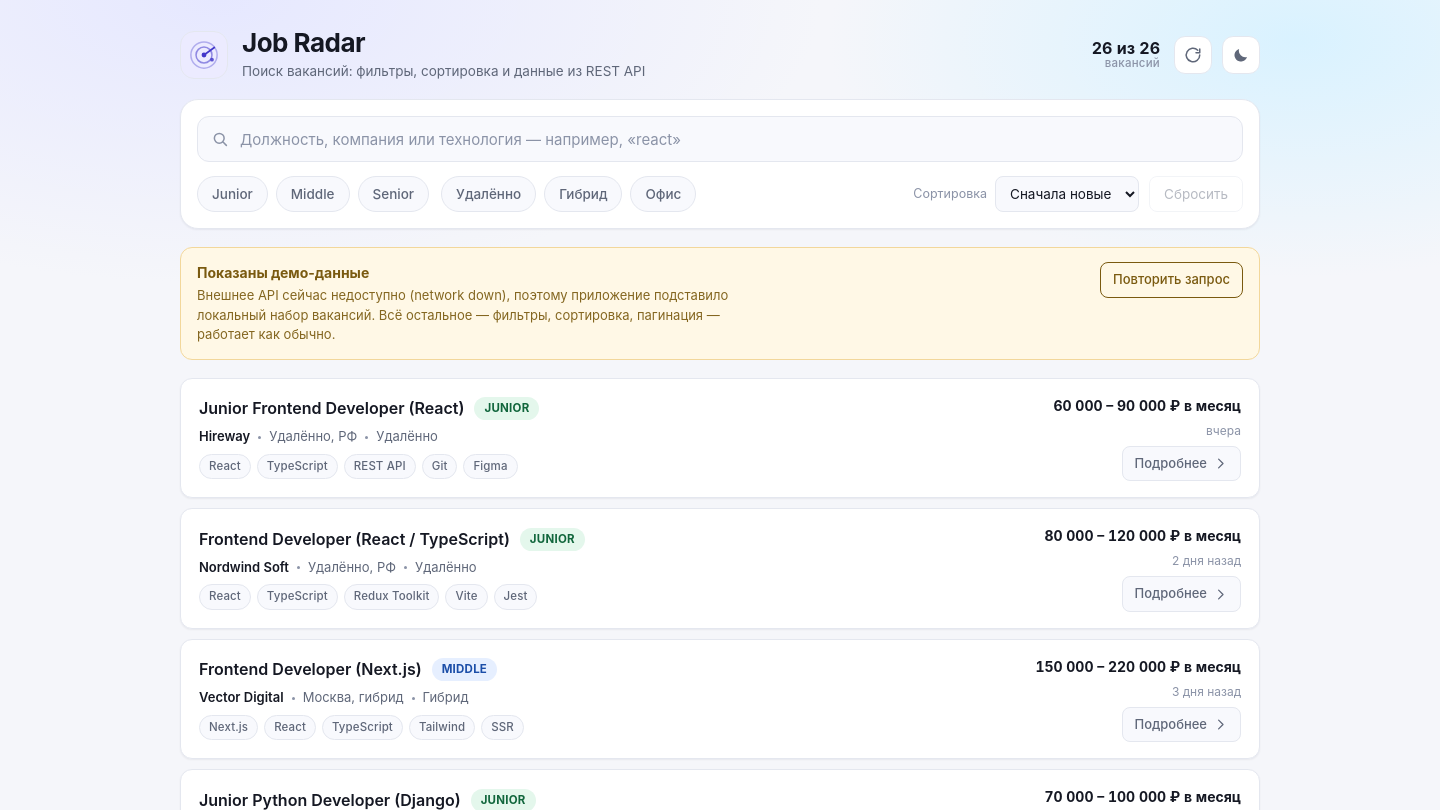
Scenario: App › фильтрует по уровню через чипы и сбрасывается кнопкой «Сбросить»
expect the text "Показаны демо-данные" is shown: met, box [197, 264, 369, 281]
Click the button "Junior": coordinates (232, 194) [197, 176, 268, 212]
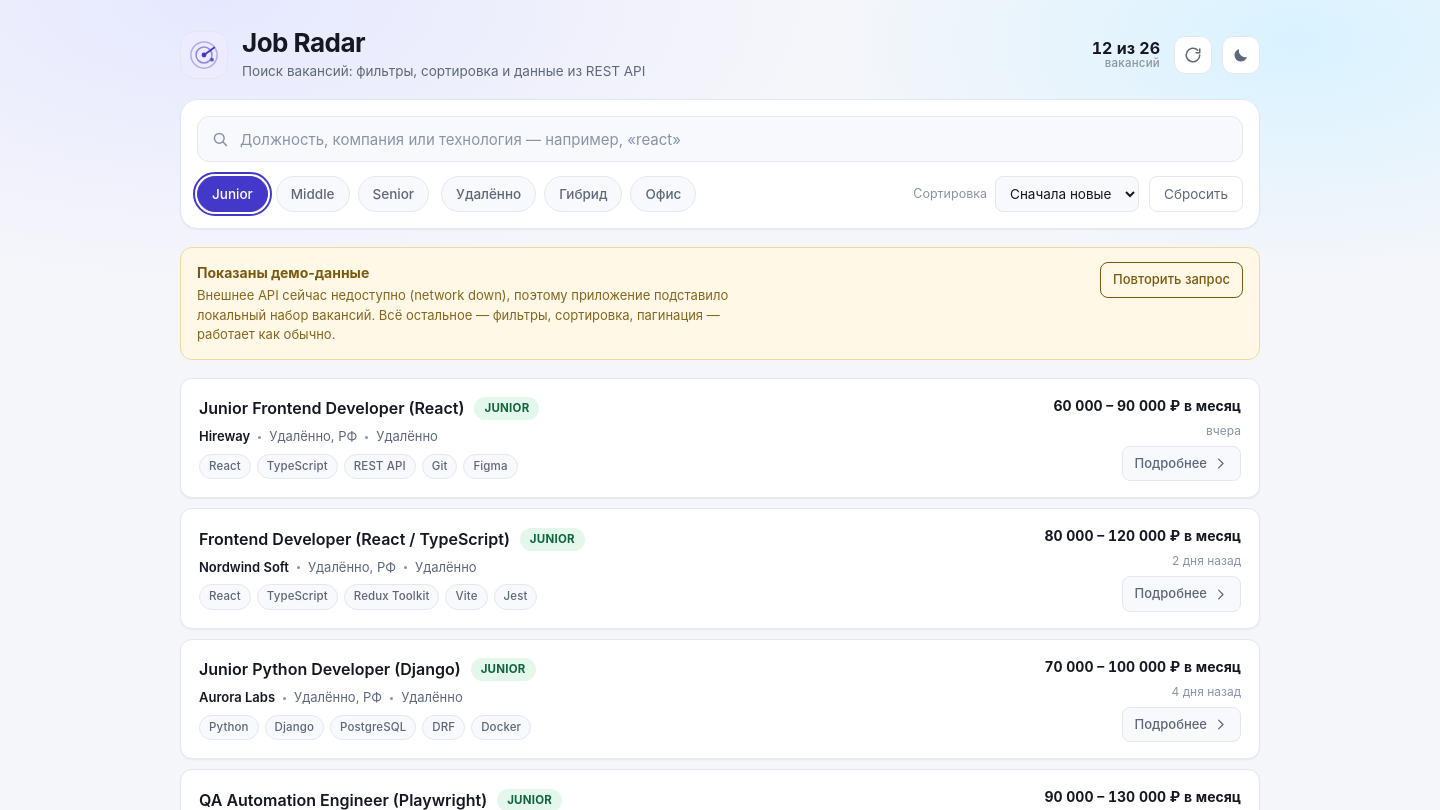
expect the button "Junior" is pressed: met, box [197, 176, 268, 212]
// Junior + офис — заведомо меньше одной страницы.
Click the button "Офис": coordinates (664, 194) [630, 176, 696, 212]
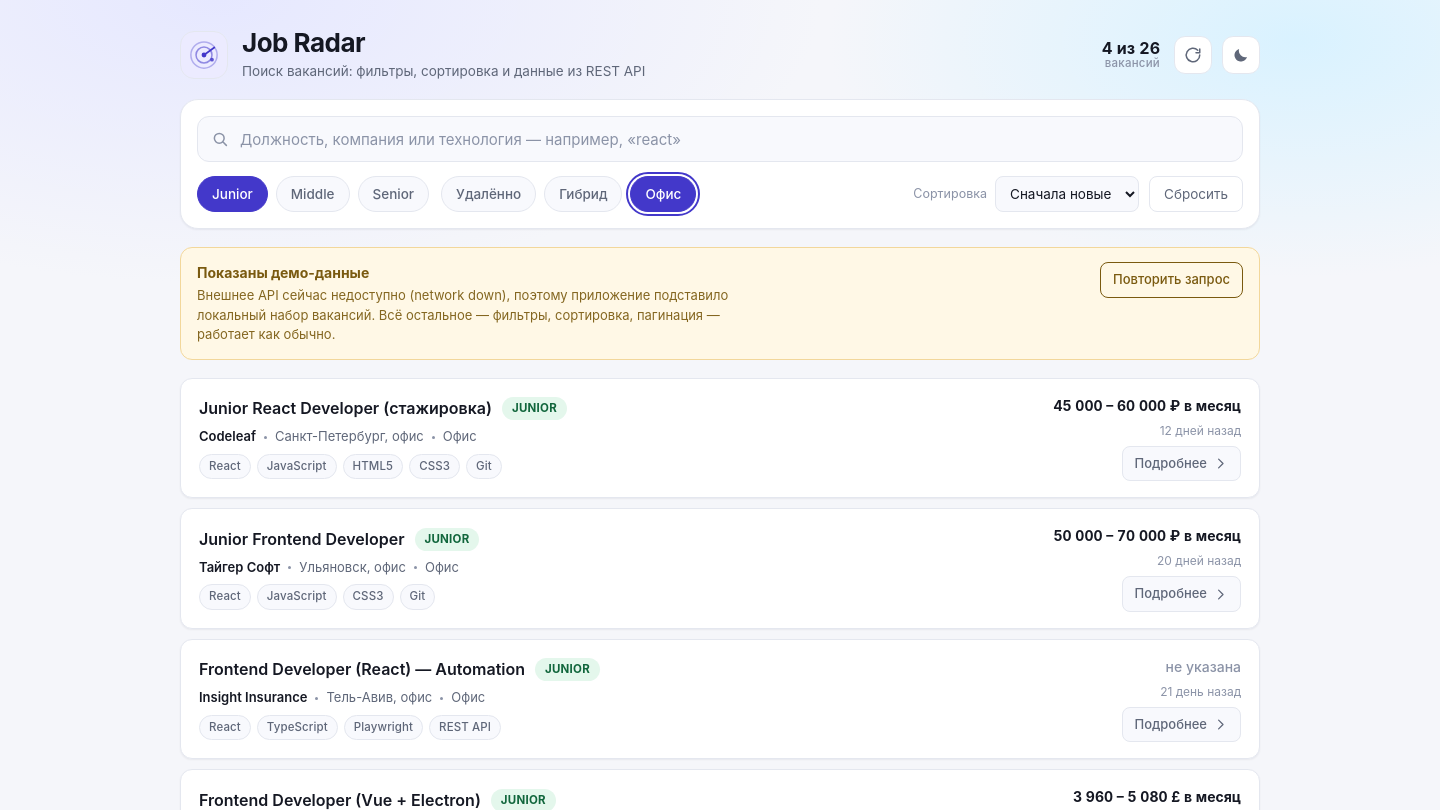
expect the button "Подробнее" below "12 дней назад" is shown: met, box [1122, 446, 1241, 481]
Click the button "Сбросить": coordinates (1196, 194) [1149, 176, 1243, 212]
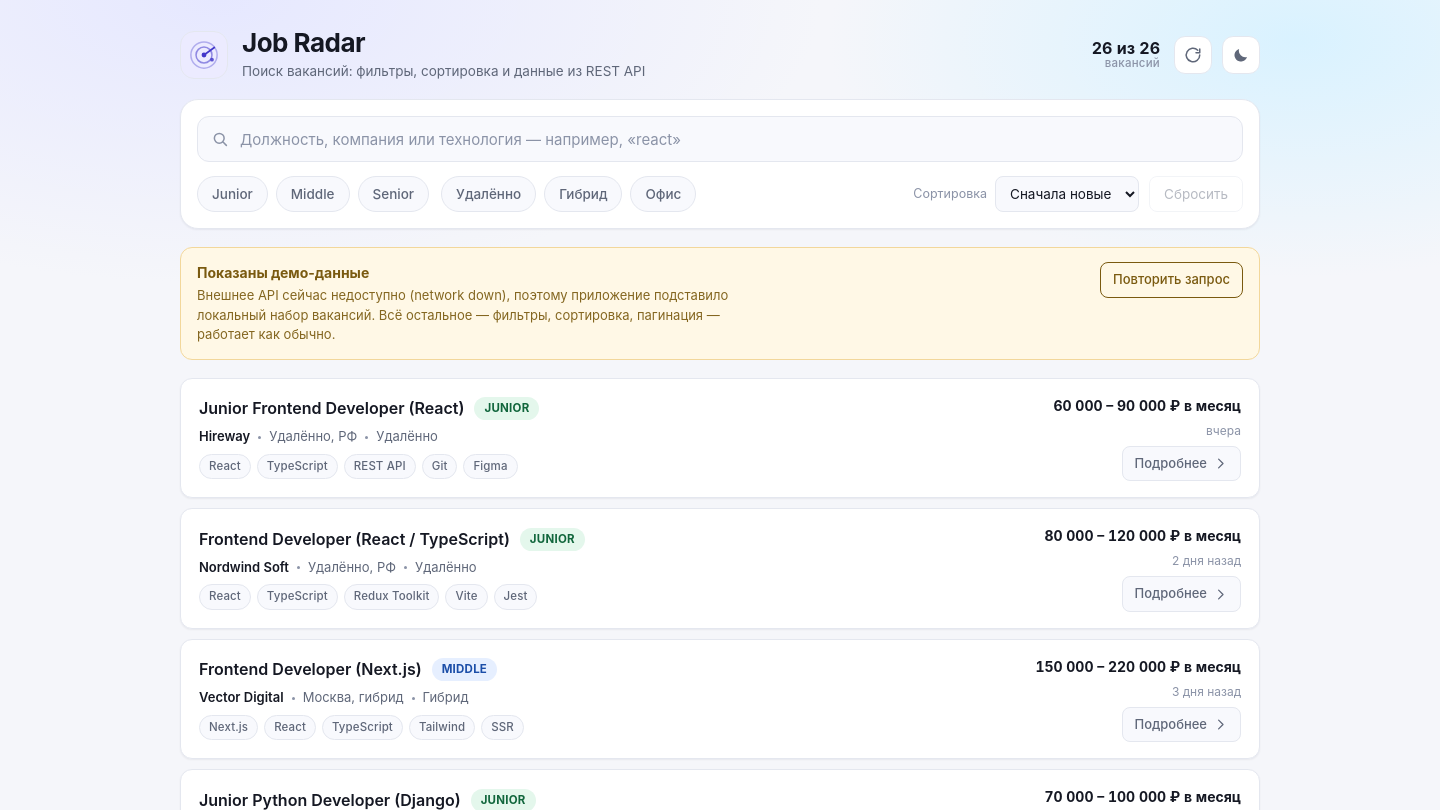
expect the number of buttons "Подробнее" is 8: met
